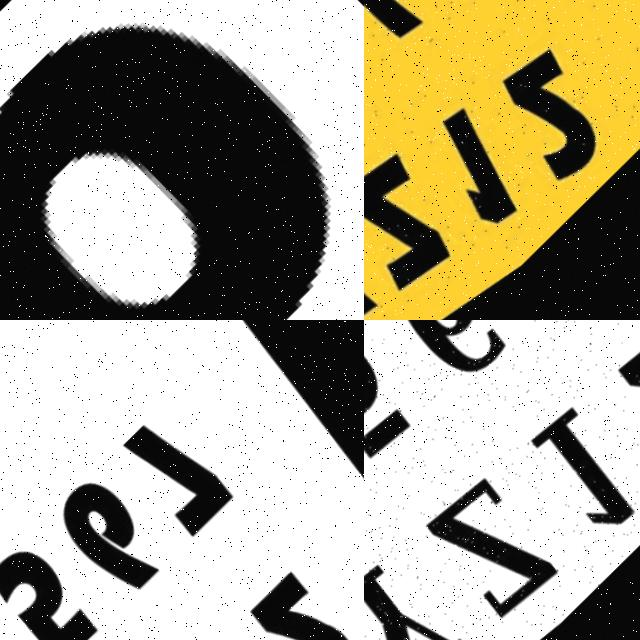1: (396, 88, 569, 259), (507, 386, 640, 554)
2: (457, 20, 640, 215), (226, 555, 364, 640), (590, 320, 640, 491)
5: (0, 518, 131, 640), (364, 320, 445, 488)
6: (28, 456, 201, 627), (364, 320, 562, 432), (364, 0, 486, 84)
7: (98, 388, 264, 553)
B: (0, 26, 331, 320)
